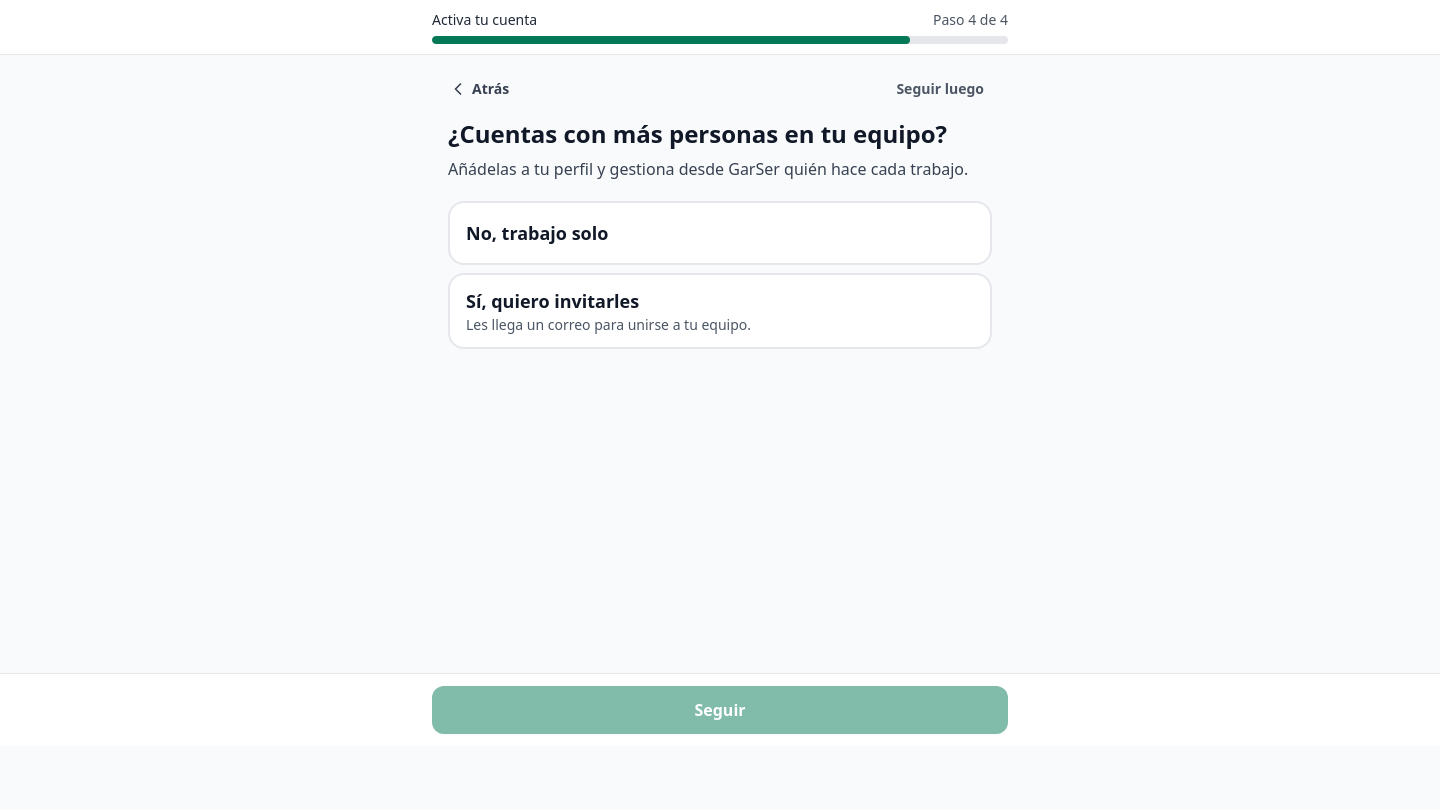
Activa tu cuenta (paquete 1.12) › QA-025 · el motivo del error del equipo sale JUNTO al botón fijo, no al final de la página
Click the radio button labelled "Sí".
click(553, 301)  # box [448,273,992,349]
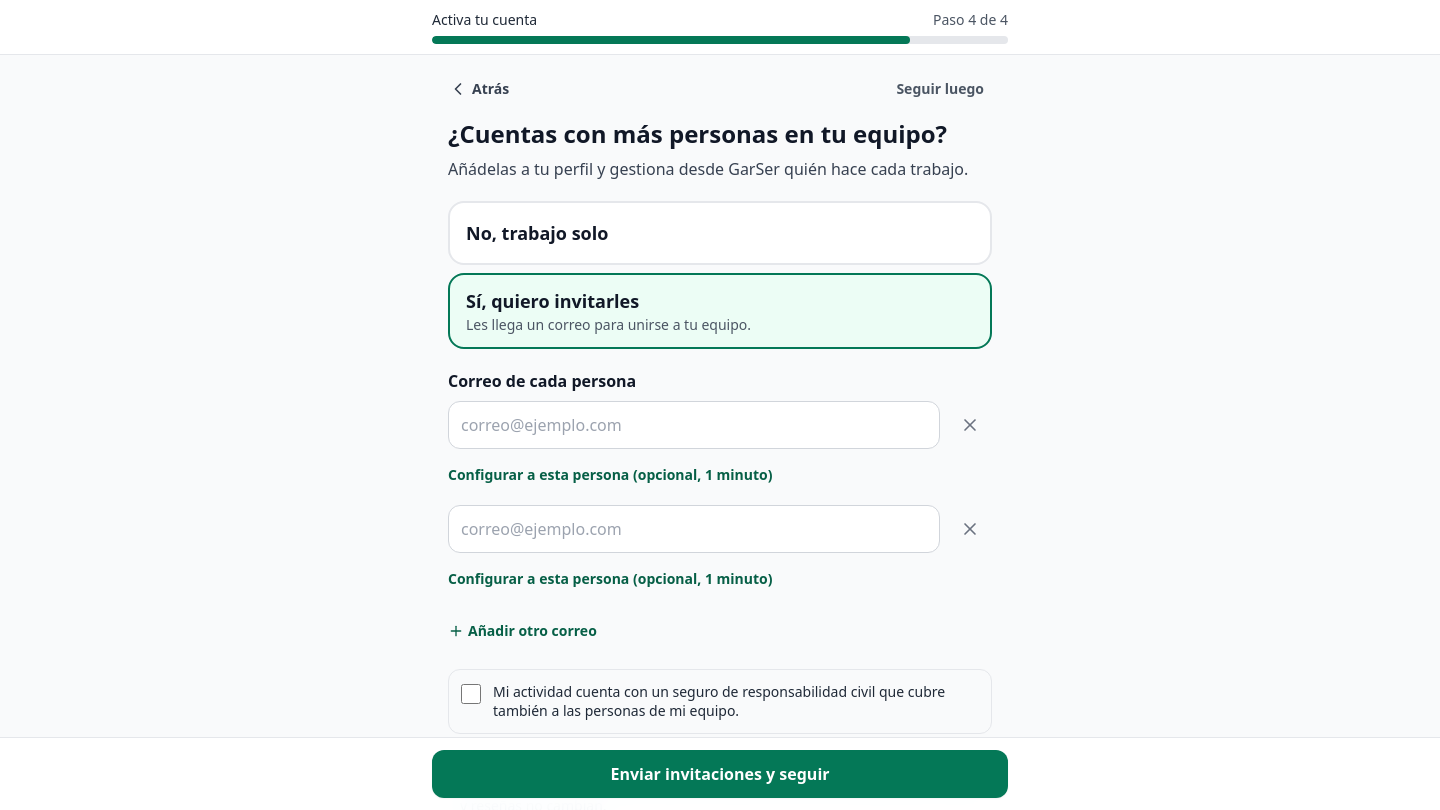
Type "marta@ejemplo.es" into the field named "Correo de la persona 1".
click(694, 425); type("marta@ejemplo.es")  # box [448,401,940,449]
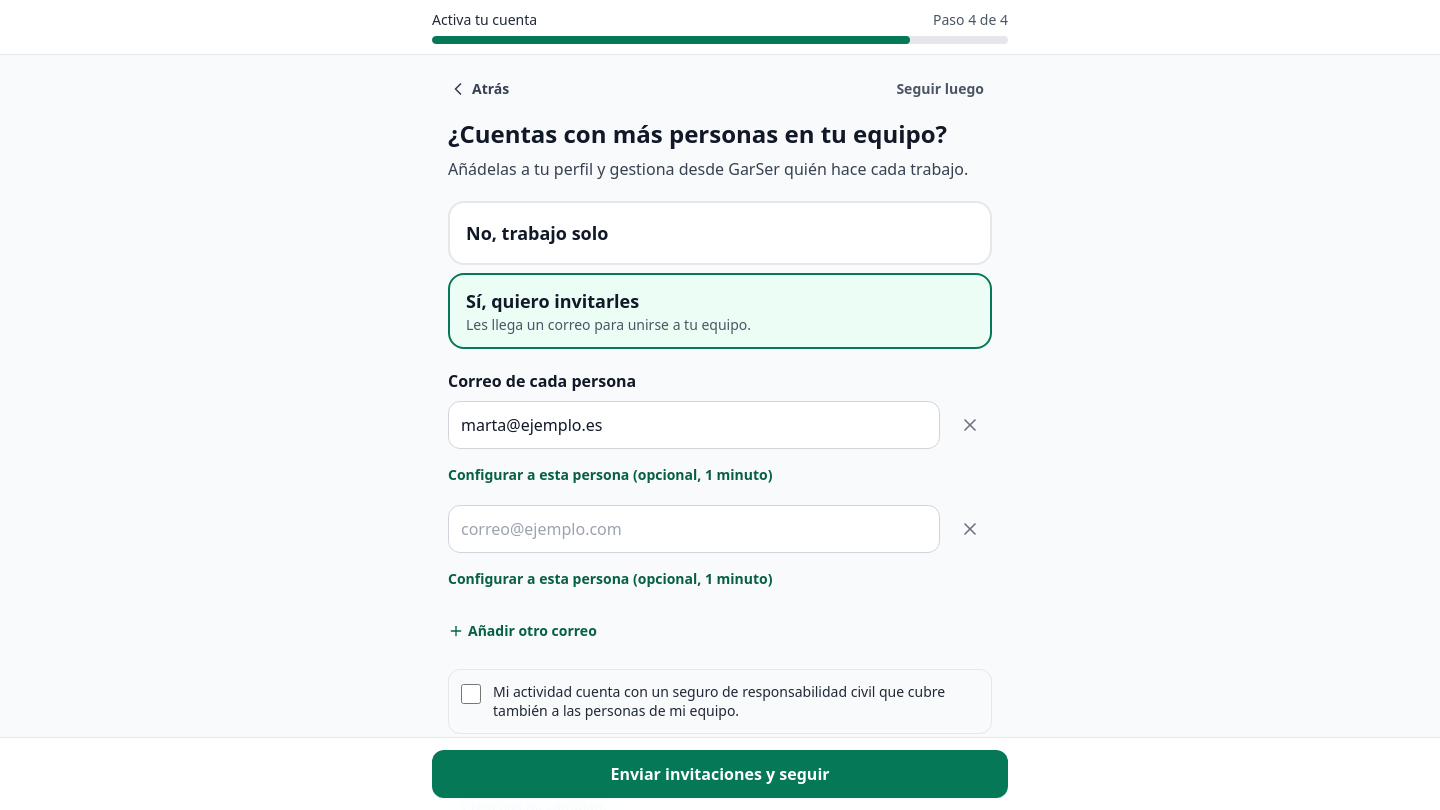
Click the button "Enviar invitaciones y seguir".
click(720, 774)  # box [432,750,1008,798]
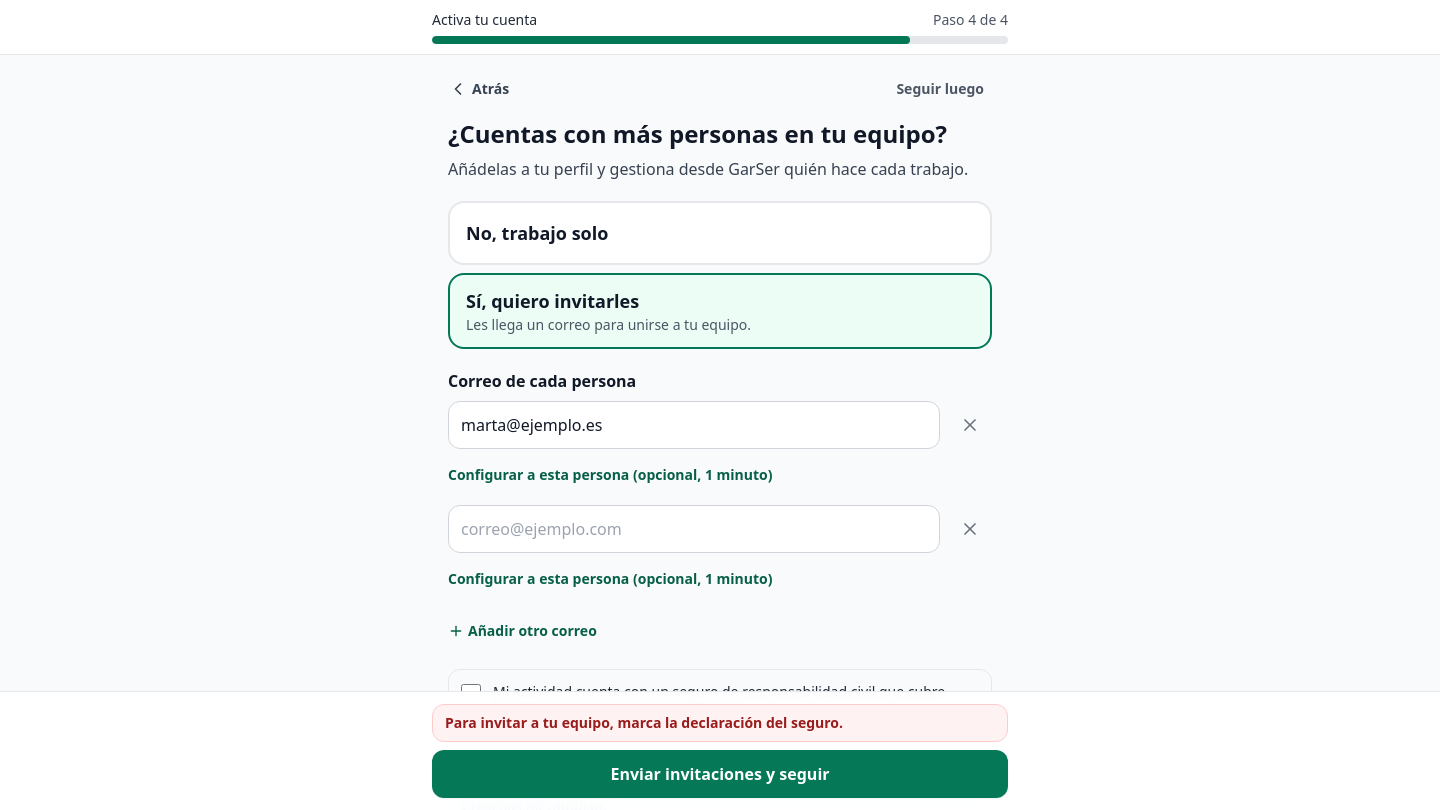
Result: the text "Para invitar a tu equipo, marca la declaración del seguro." shows "Enviar invitaciones y seguir" at [432,750,1008,798]
Result: the text "Para invitar a tu equipo, marca la declaración del seguro." is shown at [445,713,843,732]
